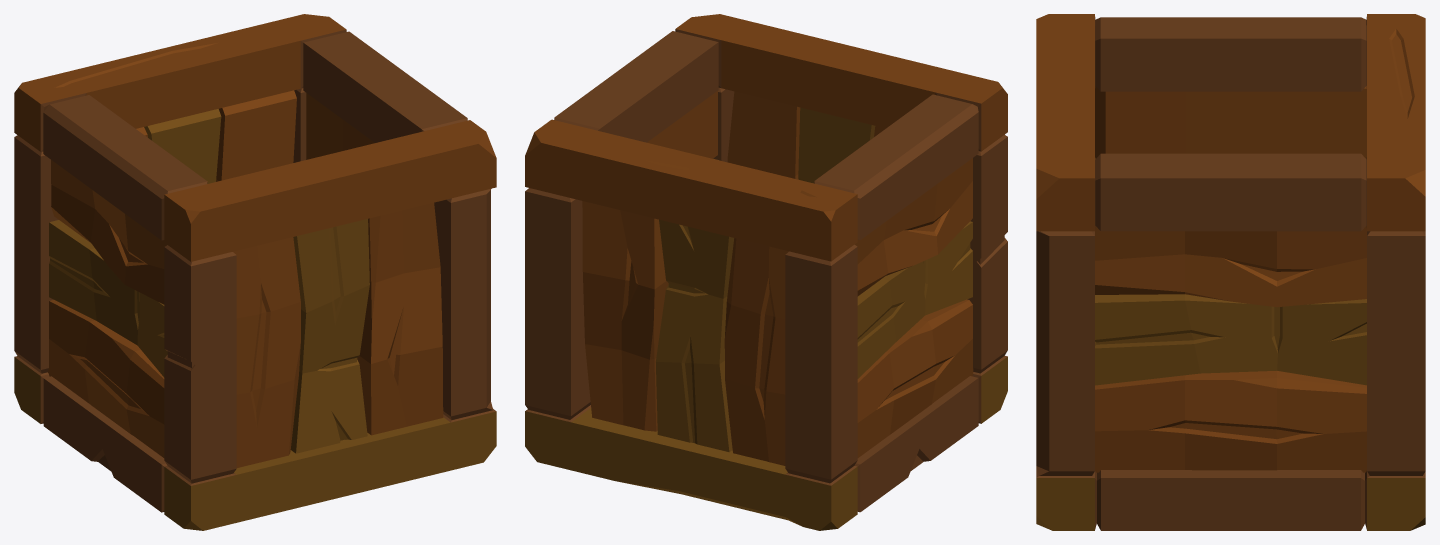
The model's file is CrateEmpty.fbx.
The picture shows the model from 3 angles, left to right: view 1: azimuth 30°, elevation 25°; view 2: azimuth 150°, elevation 25°; view 3: azimuth 270°, elevation 25°; orthographic projection. The views are drawn at different scales.
Parts seen in each view (by area): view 1: CrateOpen, CrateOpen.001; view 2: CrateOpen, CrateOpen.001; view 3: CrateOpen, CrateOpen.001.
Part boxes in pixels (x1,y1,x2,y2): CrateOpen: [14, 14, 496, 530]; CrateOpen.001: [48, 90, 443, 467]; CrateOpen: [525, 14, 1007, 530]; CrateOpen.001: [582, 90, 973, 465]; CrateOpen: [1036, 14, 1425, 530]; CrateOpen.001: [1095, 86, 1366, 472].
Size of the model in its own units: 80 by 80 by 80.
